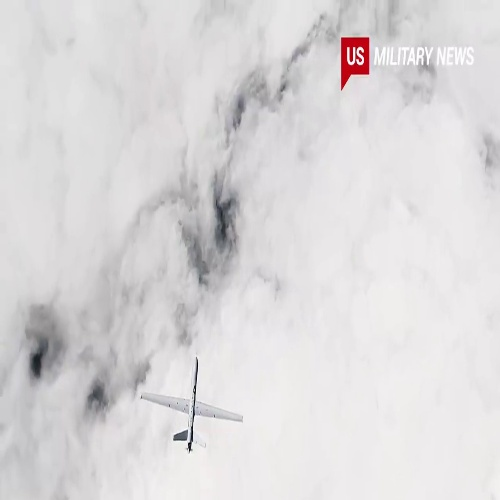uav6: (136, 352, 244, 458)
